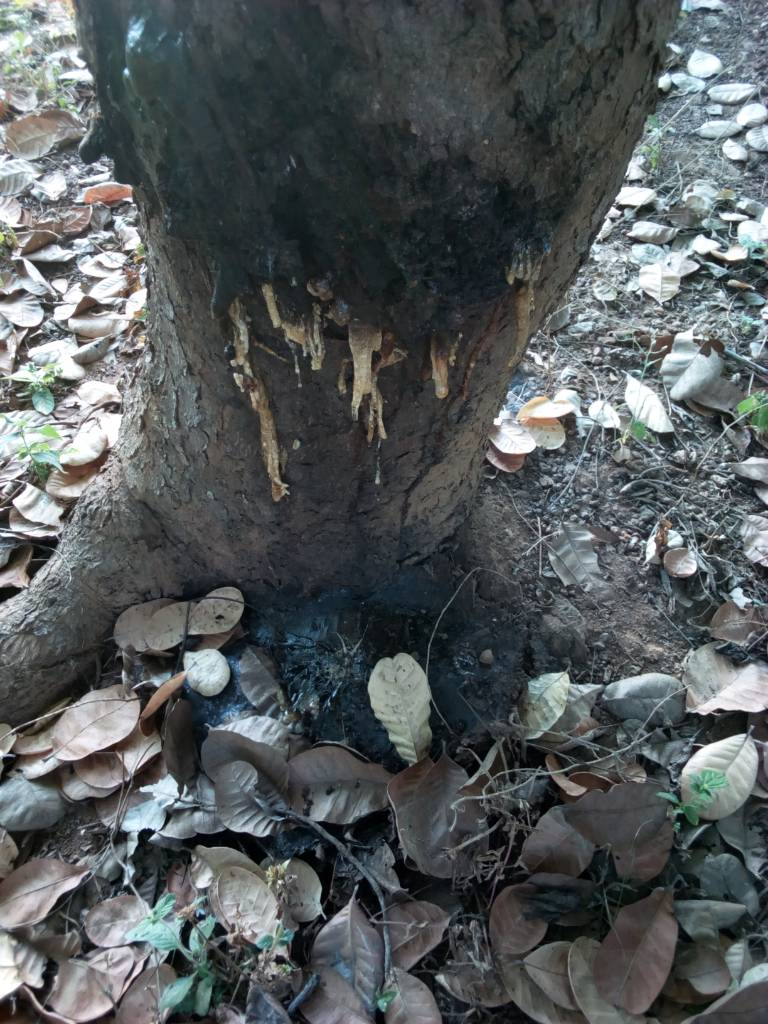Gommose: (118, 11, 552, 492)
